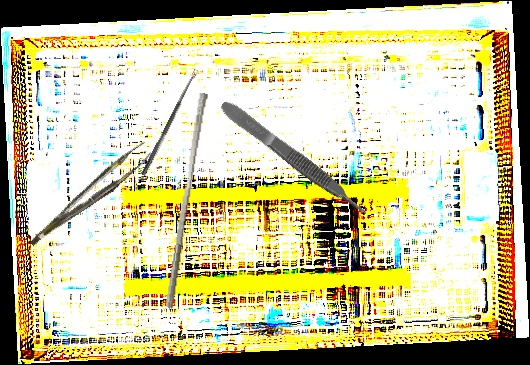Pusher: (164, 91, 209, 310)
Surgical Spoon: (140, 68, 200, 177)
Tissue Forceps: (217, 96, 371, 222), (18, 140, 159, 247)
